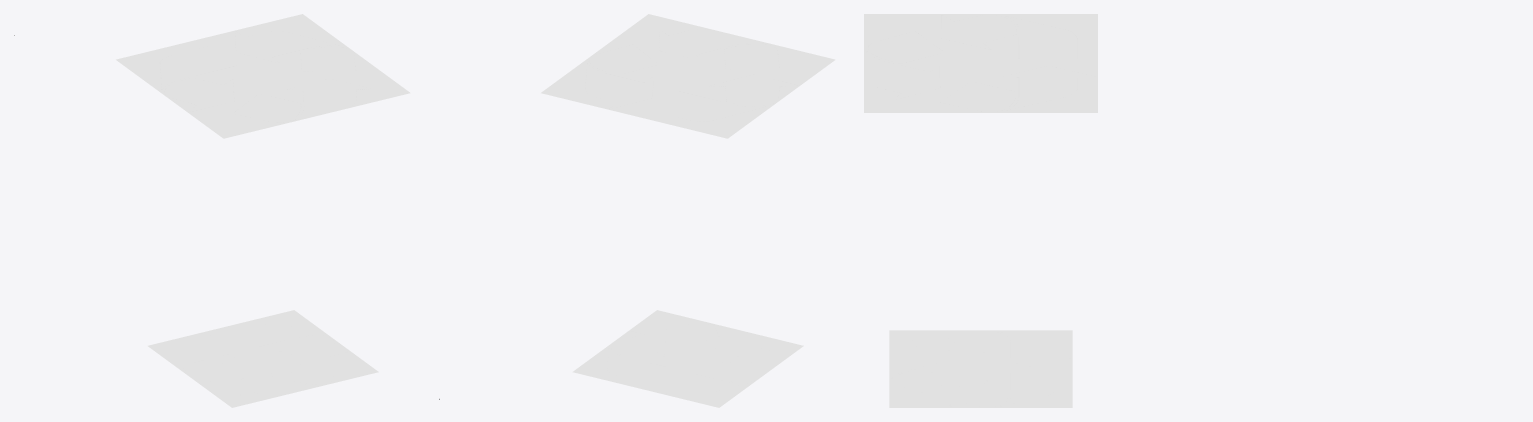
The model's file is MeshBin_7_0_GeomSubset_2.obj.
3 views of the same model, side by side, from view 1: azimuth 30°, elevation 25°; view 2: azimuth 150°, elevation 25°; view 3: azimuth 270°, elevation 25° (orthographic). The views are drawn at different scales.
Parts seen in each view (by area): view 1: MeshBin_7_0_GeomSubset_2; view 2: MeshBin_7_0_GeomSubset_2; view 3: MeshBin_7_0_GeomSubset_2.
Part boxes in pixels (<box>): MeshBin_7_0_GeomSubset_2: <box>14,14,410,407</box>; MeshBin_7_0_GeomSubset_2: <box>439,14,835,407</box>; MeshBin_7_0_GeomSubset_2: <box>864,14,1097,407</box>.
Bounding box in the file's own units: 0.1911 × 0.2757 × 0.5351.
